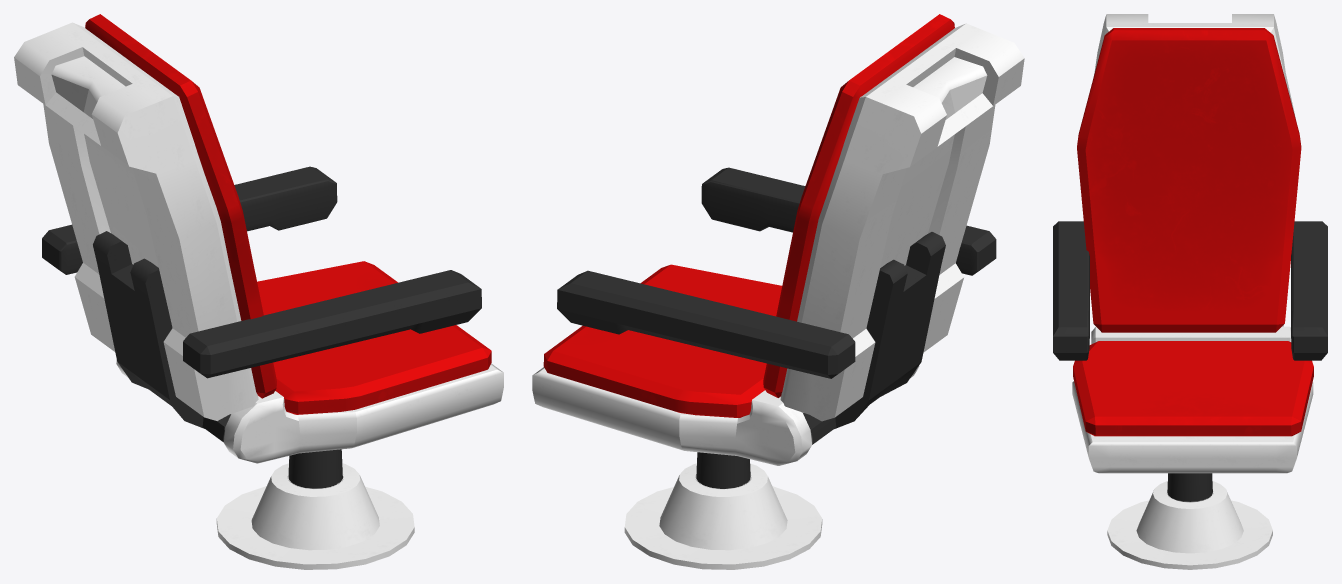
The model's file is lab_silla.fbx.
3 views of the same model, side by side, from view 1: azimuth 30°, elevation 25°; view 2: azimuth 150°, elevation 25°; view 3: azimuth 270°, elevation 25° (orthographic). The views are drawn at different scales.
Parts seen in each view (by area): view 1: metal, cojin; view 2: metal, cojin; view 3: cojin, metal.
Part boxes in pixels (x1,y1,x2,y2): metal: [14, 22, 503, 569]; cojin: [85, 14, 491, 414]; metal: [532, 23, 1024, 569]; cojin: [543, 14, 954, 417]; cojin: [1073, 28, 1313, 436]; metal: [1053, 14, 1327, 569].
Size of the model in its own units: 94.96 by 126 by 72.01.
Materials: 2 (2 with a texture image).
